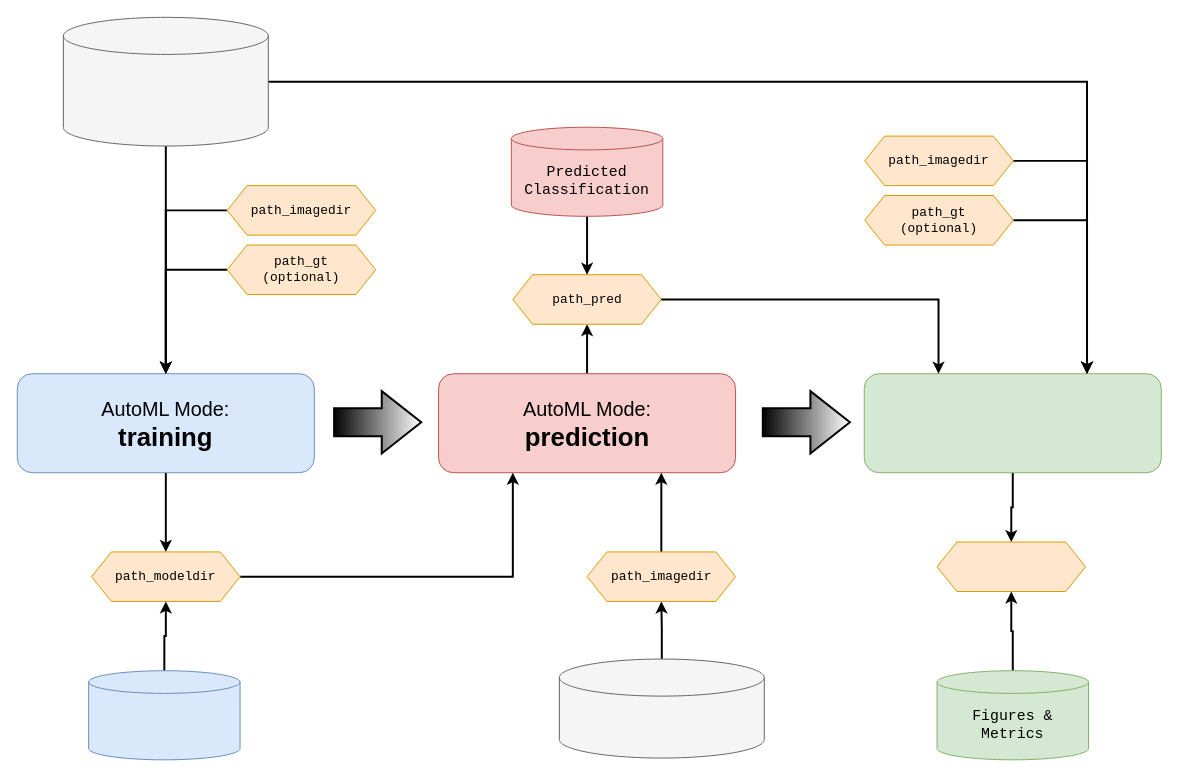
This 1179x784 diagram has some shape labels left out. Each missing label, with the centre of its shape:
"AutoML Mode: evaluation" goes at (1012,423).
"Neural Network Models" goes at (164,715).
"path_evaldir" goes at (1011,566).
"Testing Data" goes at (661,708).
"Training Data & Annotation" goes at (165,81).
